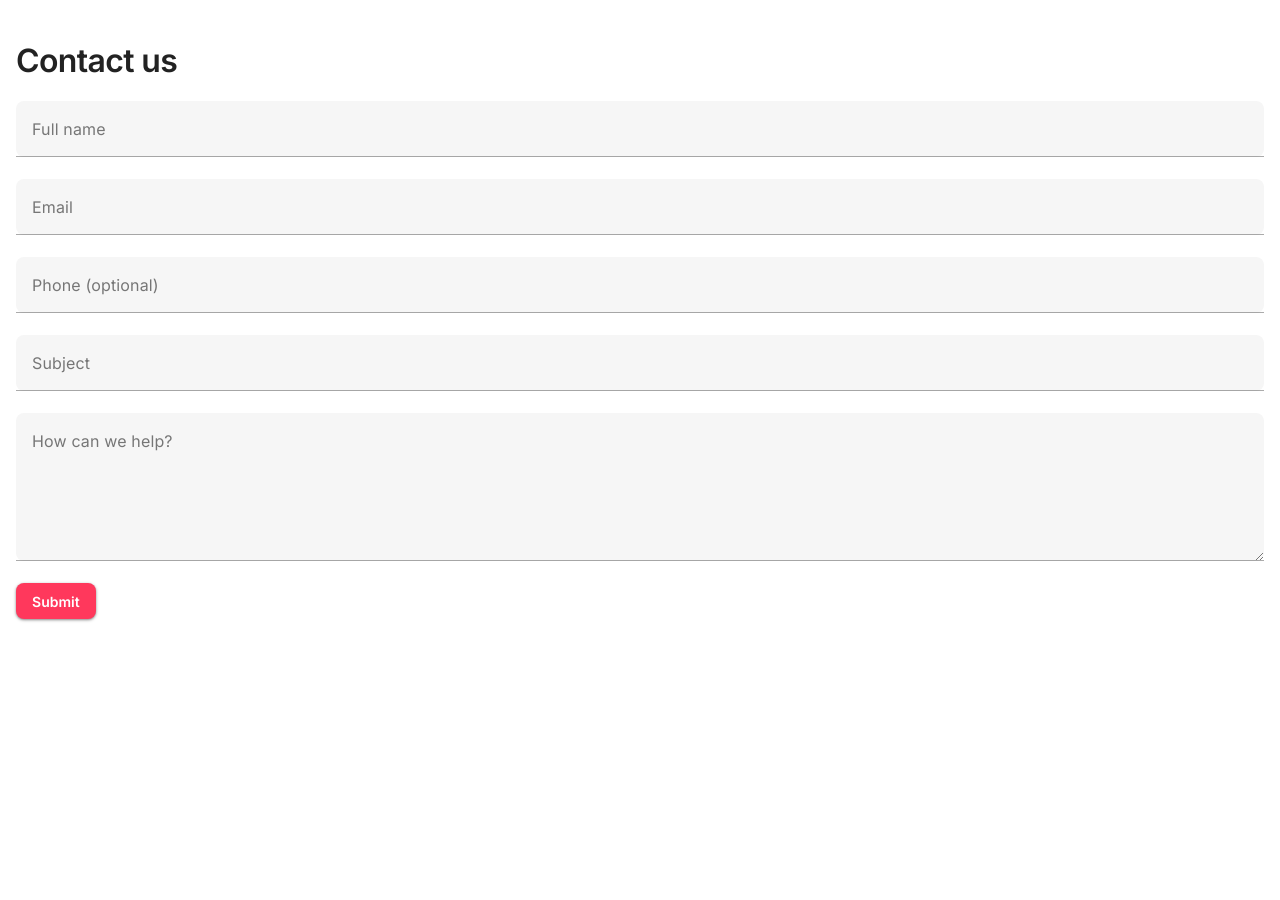
Test: WidgetEmbedView › shows an error and does not submit when both email and phone are missing
Type "No Contact" into the field labelled "Full name" at [640, 129], box [16, 101, 1264, 157]
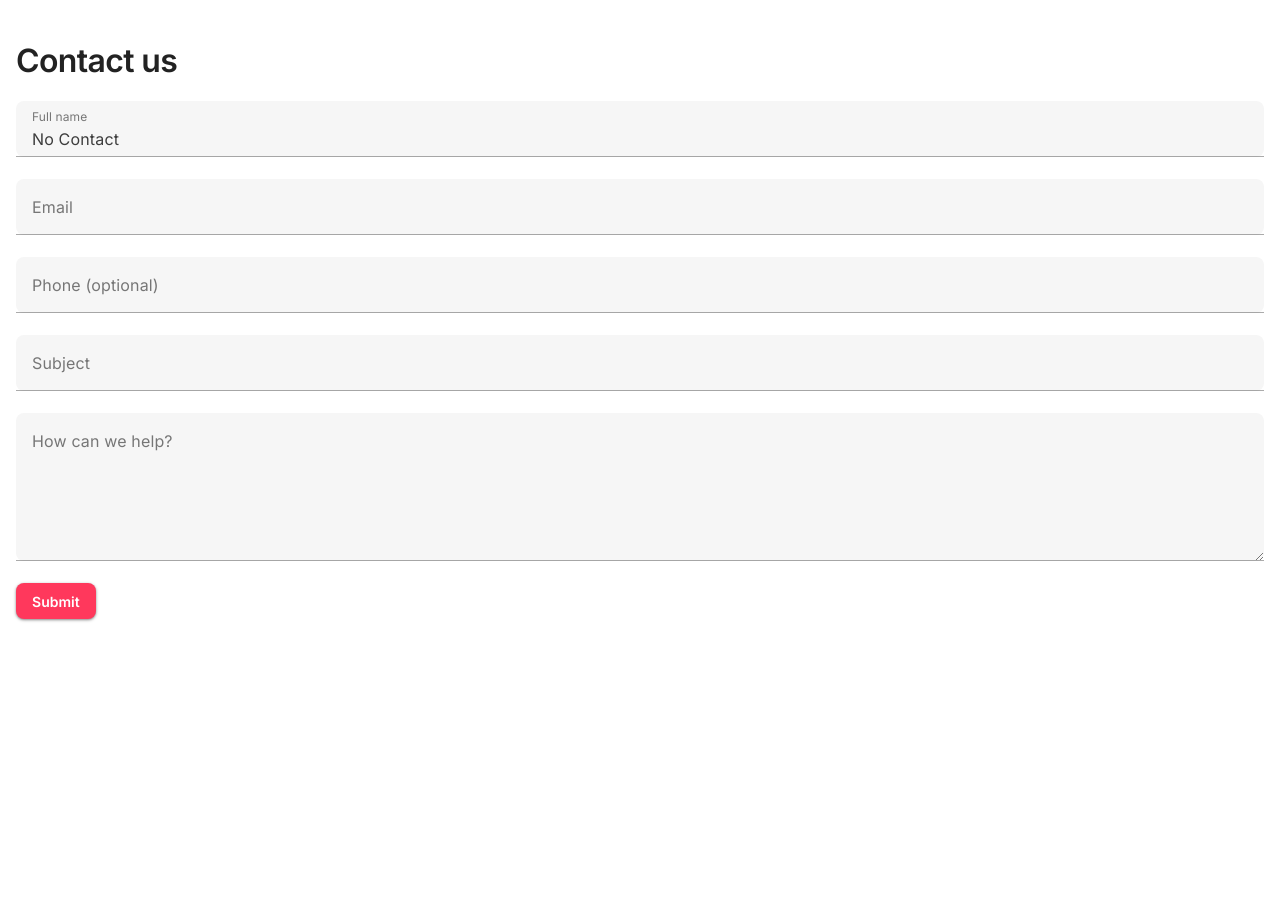
Type "Test" into the field labelled "Subject" at [640, 363], box [16, 335, 1264, 391]
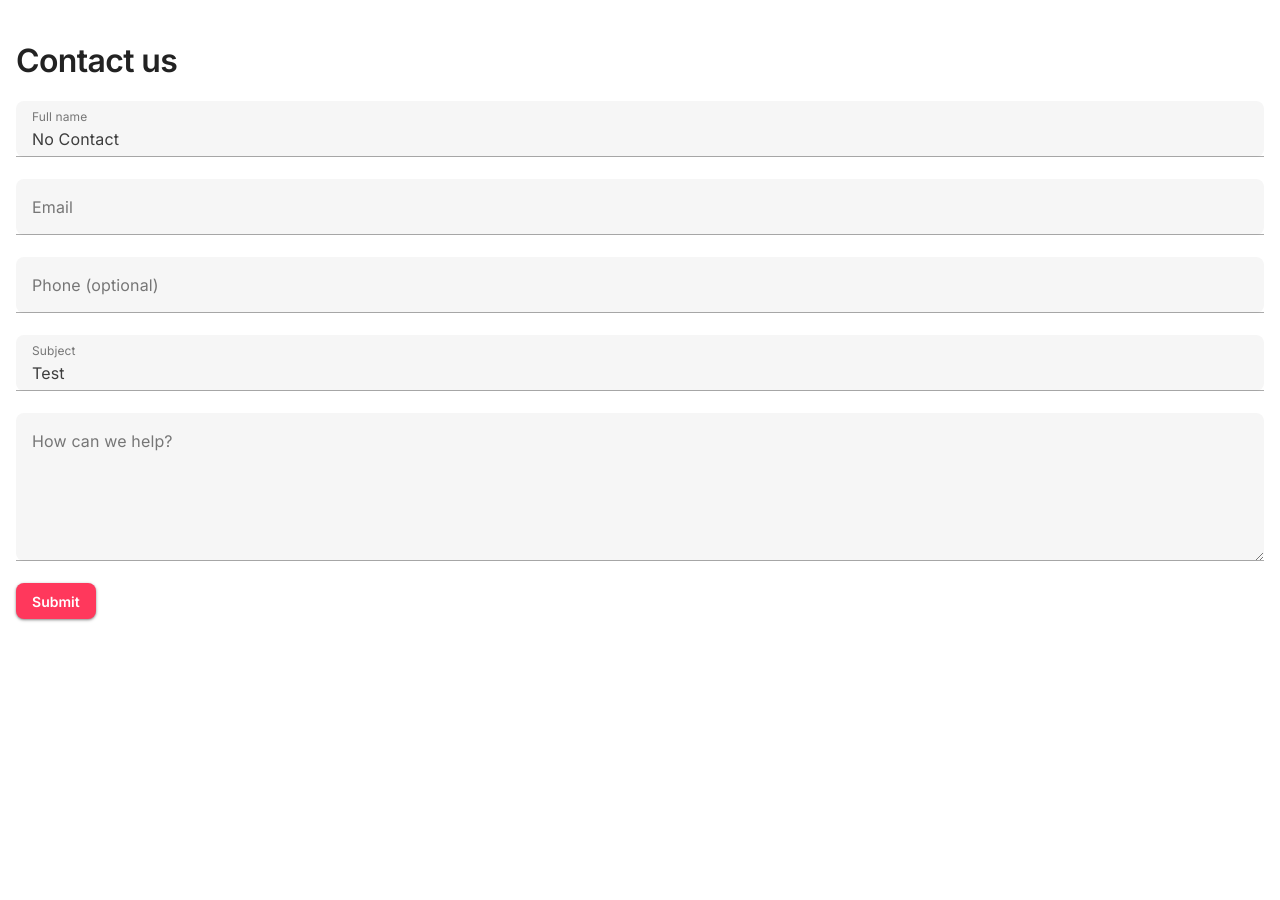
Type "Test" into the text box labelled "How can we help?" at [640, 487], box [16, 413, 1264, 561]
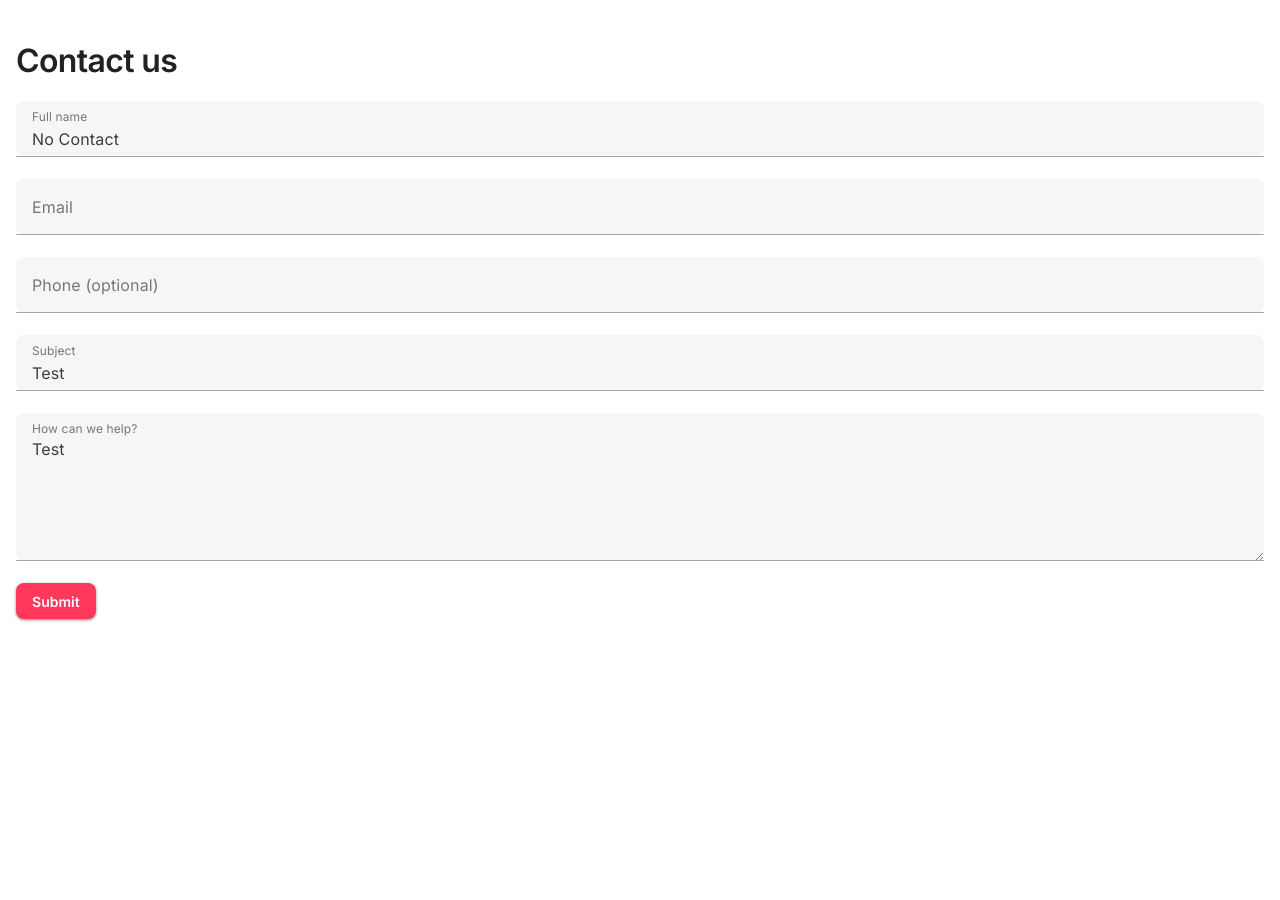
Submit the form, box [16, 101, 1264, 619]
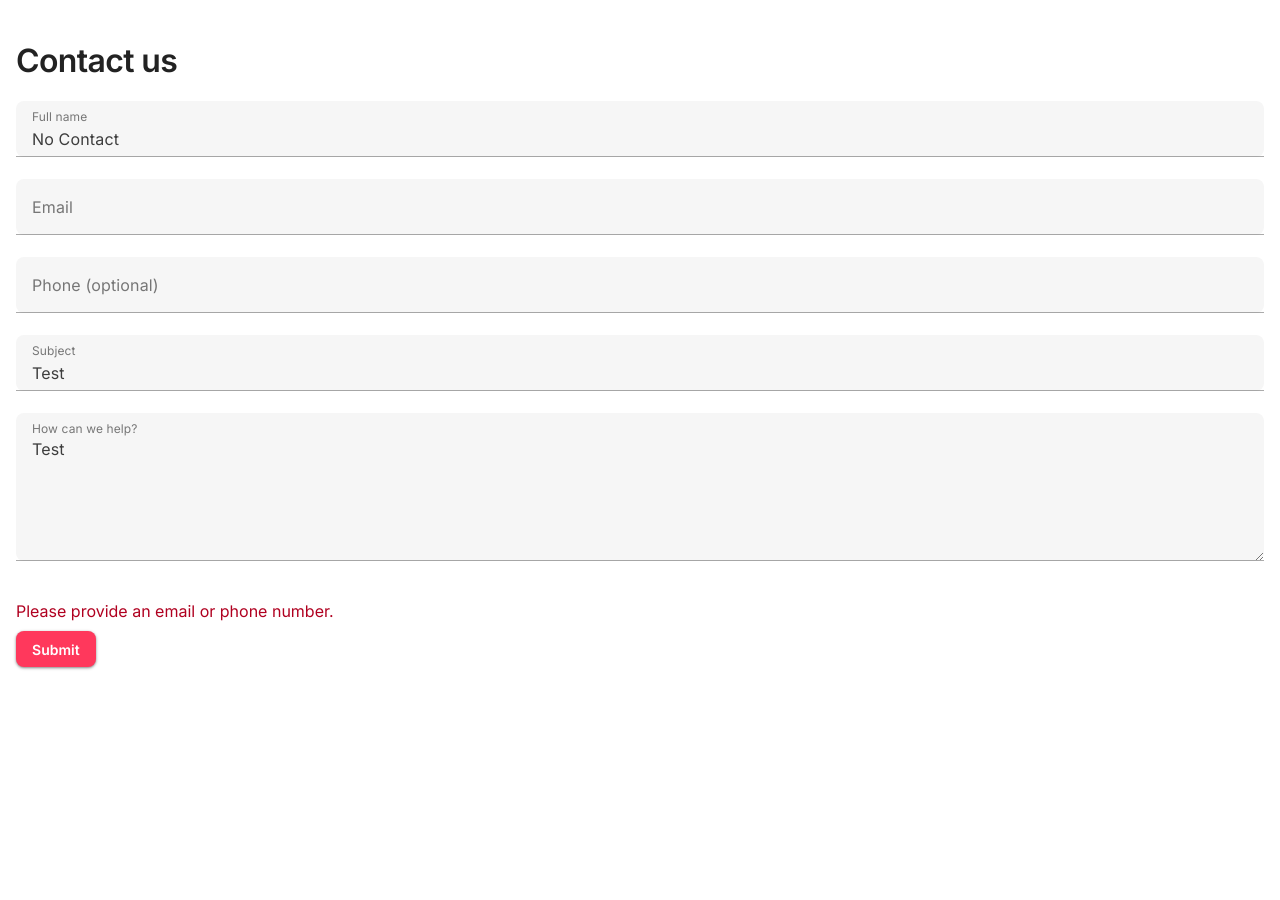
Check: the text "Please provide an email or phone number." is shown, box [16, 601, 334, 621]
